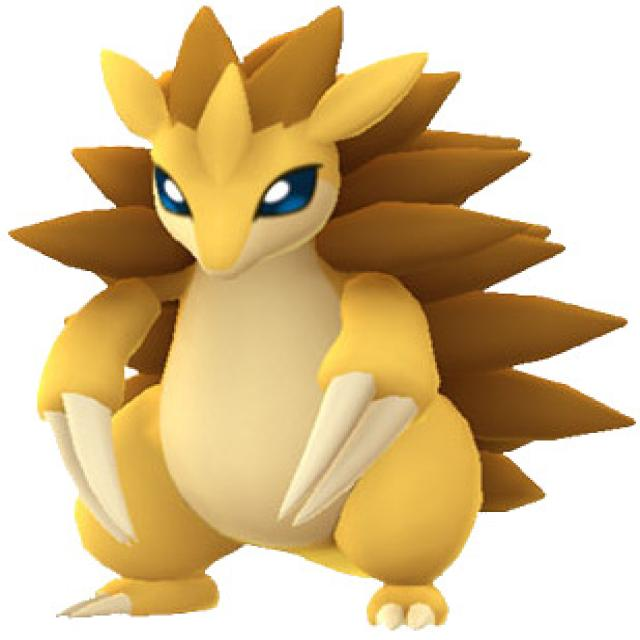Sandslash: (30, 57, 514, 618)
